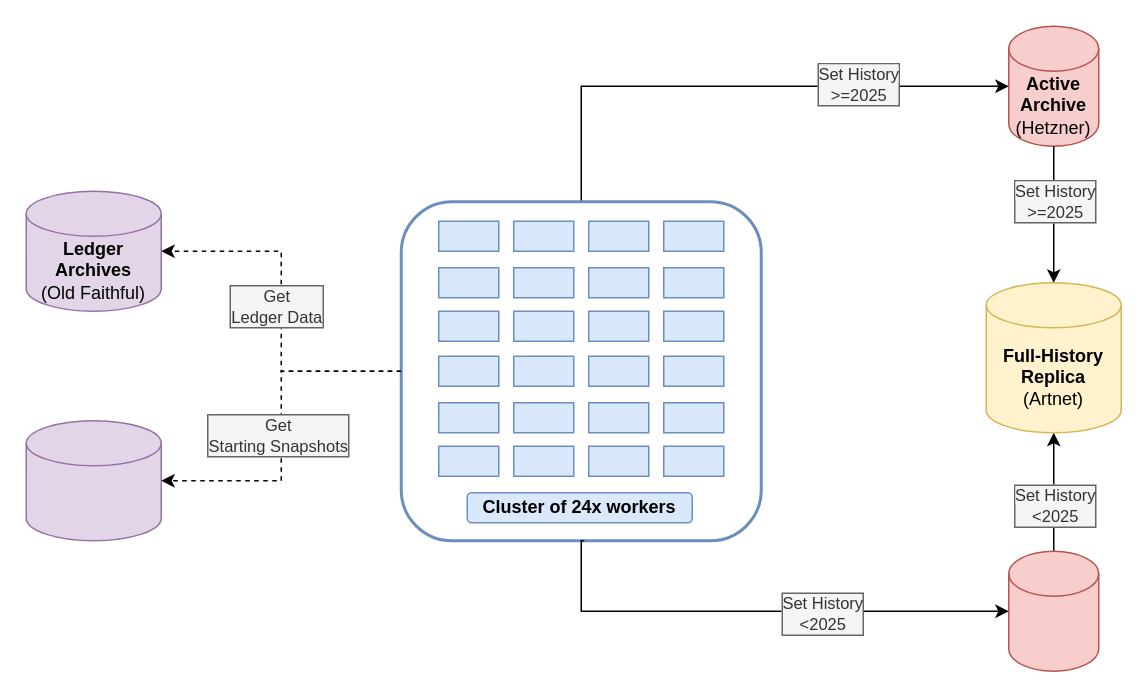
This 1148x698 diagram has some shape labels left out. The box of each missing label's shape, as (x1, y1, x2, y2) in pixels:
Historical Archive (Hetzner): (1007, 550, 1099, 671)
State Snapshots (Google Cloud): (25, 419, 161, 541)
